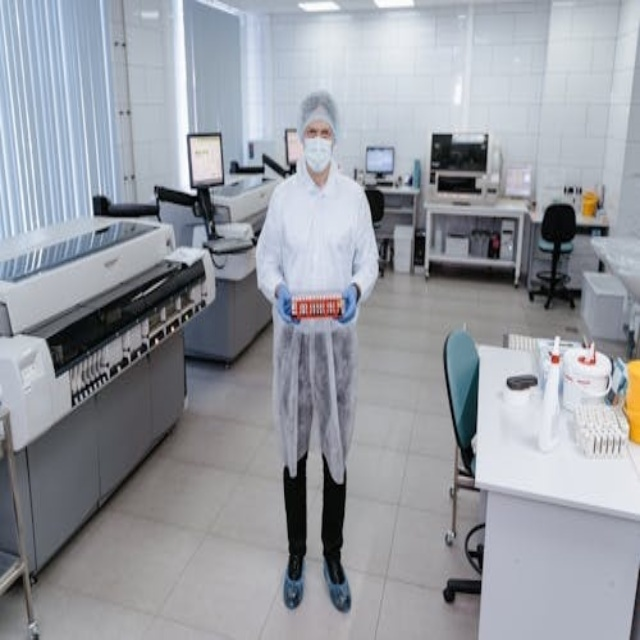Guantes: (337, 285, 360, 324), (276, 284, 296, 324)
Mascara: (302, 136, 333, 174)
Sin_gafas: (304, 128, 333, 140)
